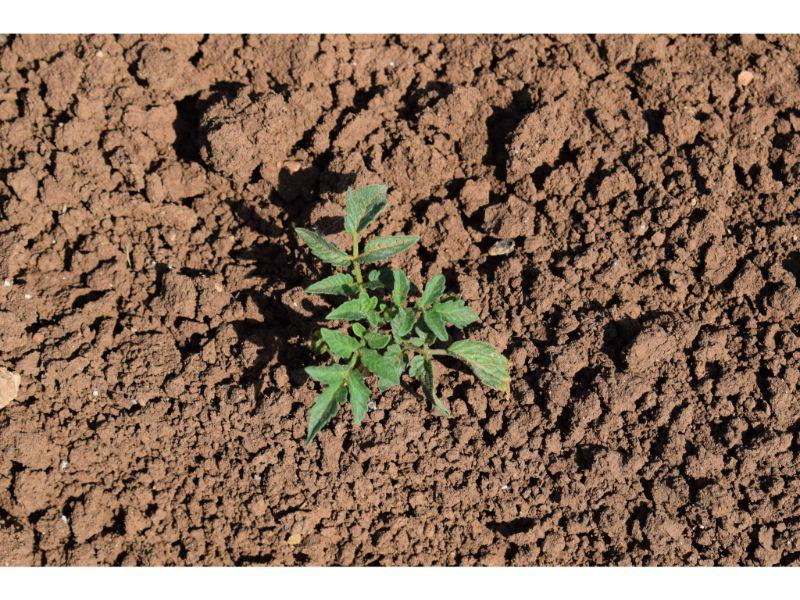tomato: (295, 182, 511, 442)
